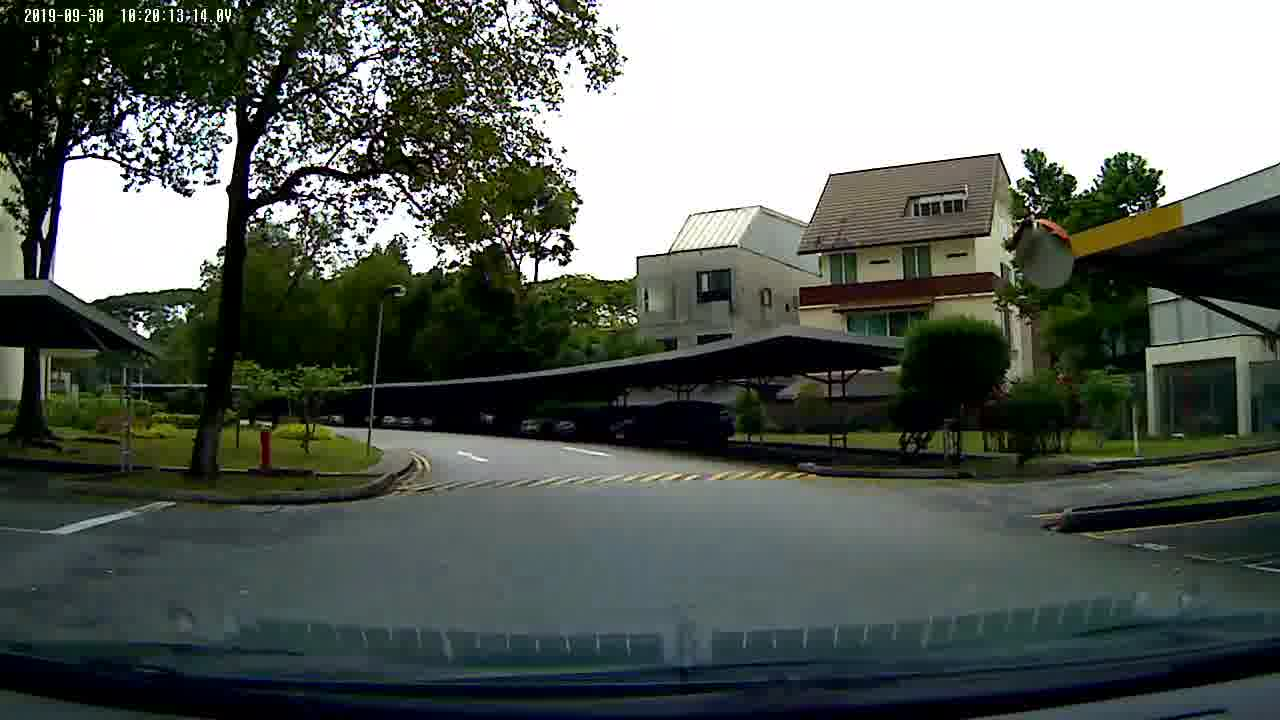car: (604, 400, 740, 451)
